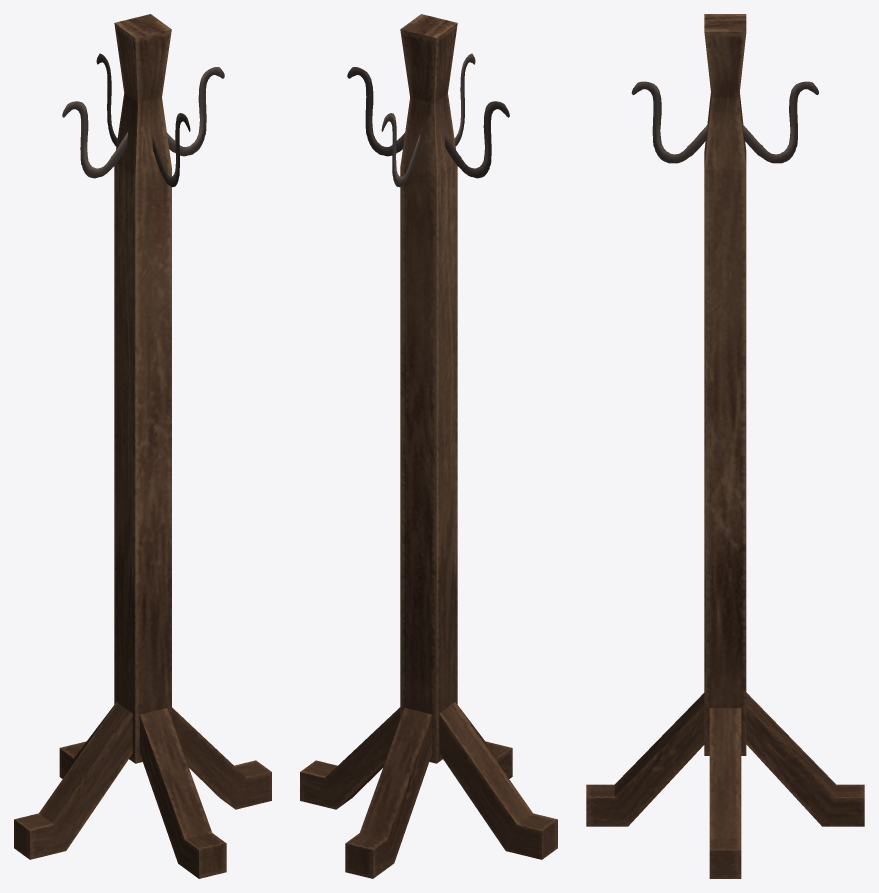
The model's file is Coat.Hanger.fbx.
3 views of the same model, side by side, from view 1: azimuth 30°, elevation 25°; view 2: azimuth 150°, elevation 25°; view 3: azimuth 270°, elevation 25° (orthographic).
Parts seen in each view (by area): view 1: Coat.Hanger; view 2: Coat.Hanger; view 3: Coat.Hanger.
Boxes of the visible parts, bbox=[...] form: Coat.Hanger: bbox=[14, 14, 271, 878]; Coat.Hanger: bbox=[300, 14, 557, 878]; Coat.Hanger: bbox=[586, 14, 864, 878].
Size of the model in its own units: 48.8 by 154 by 48.74.
